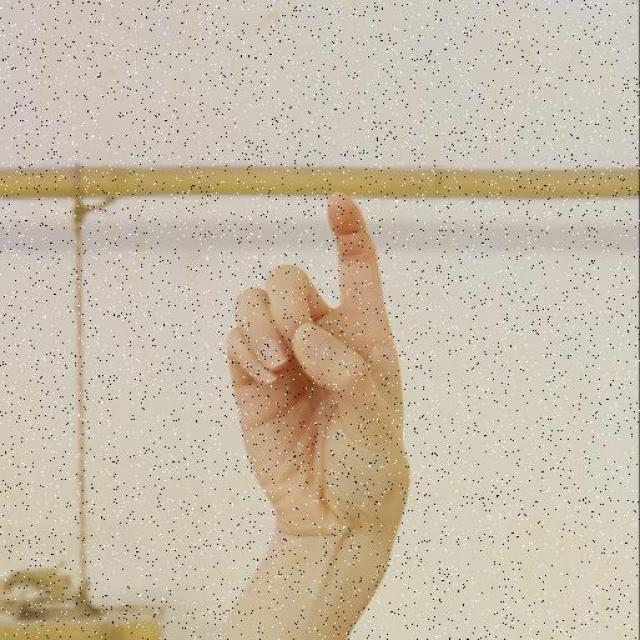X: (224, 189, 420, 545)
